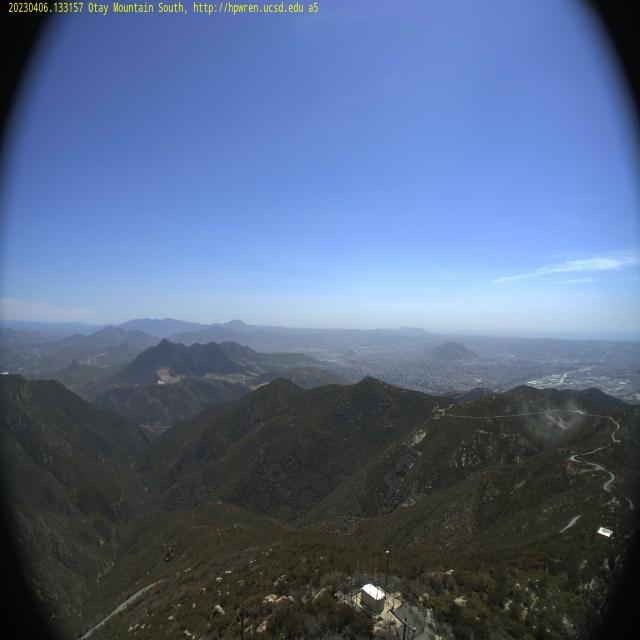smoke: (460, 340, 521, 361)
